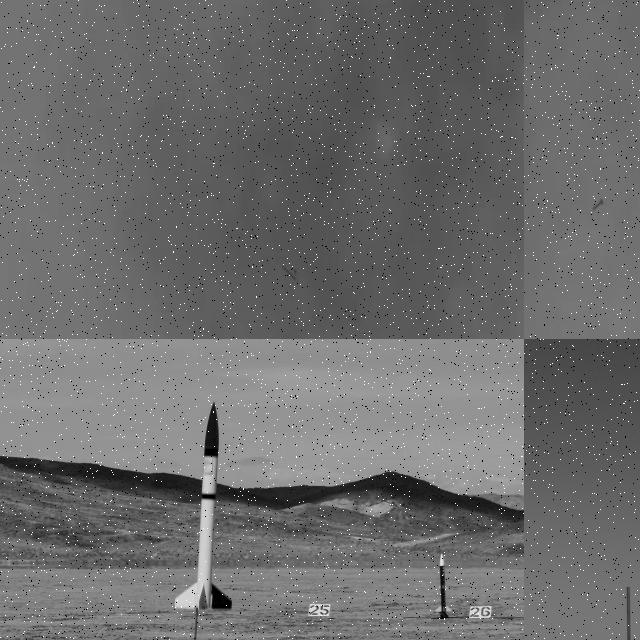Rocket: (174, 400, 234, 611), (436, 553, 452, 612), (593, 197, 603, 210)
